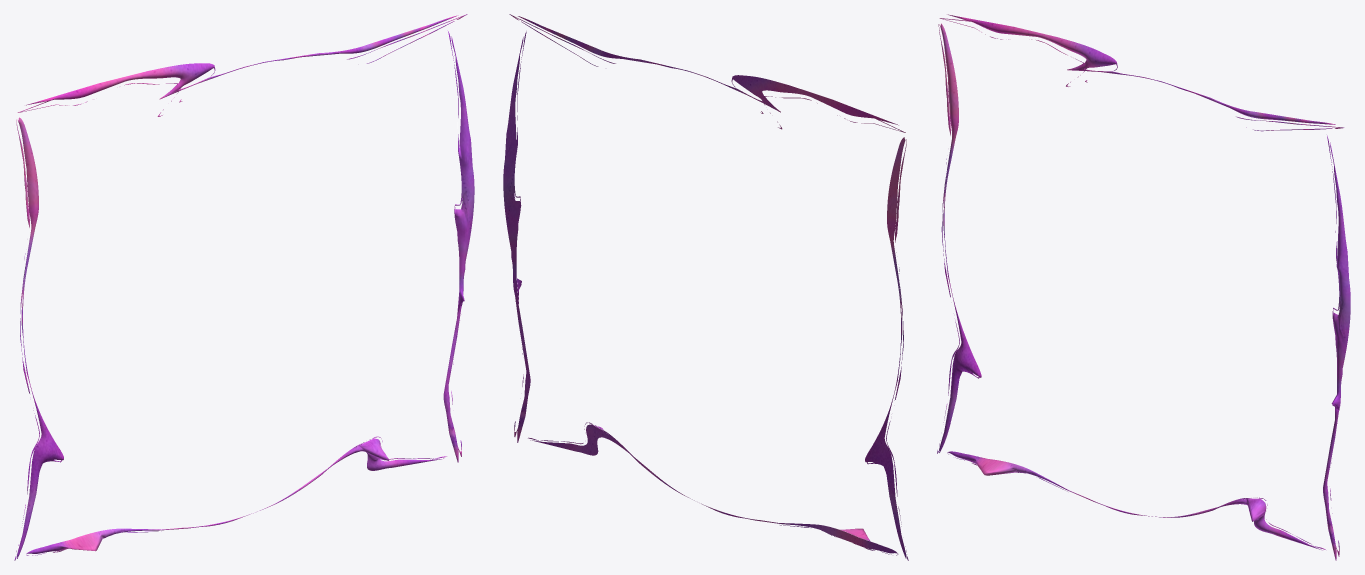
The picture shows the model from 3 angles, left to right: view 1: azimuth 30°, elevation 25°; view 2: azimuth 150°, elevation 25°; view 3: azimuth 330°, elevation 25°; orthographic projection. The views are drawn at different scales.
Parts seen in each view (by area): view 1: bottom; view 2: bottom; view 3: bottom.
Part boxes in pixels (x1=…): bottom: x1=14, y1=14, x2=474, y2=560; bottom: x1=503, y1=14, x2=908, y2=560; bottom: x1=937, y1=14, x2=1350, y2=560.
Size of the model in its own units: 4 by 4.05 by 0.4006.
3 materials, 2 textured.
